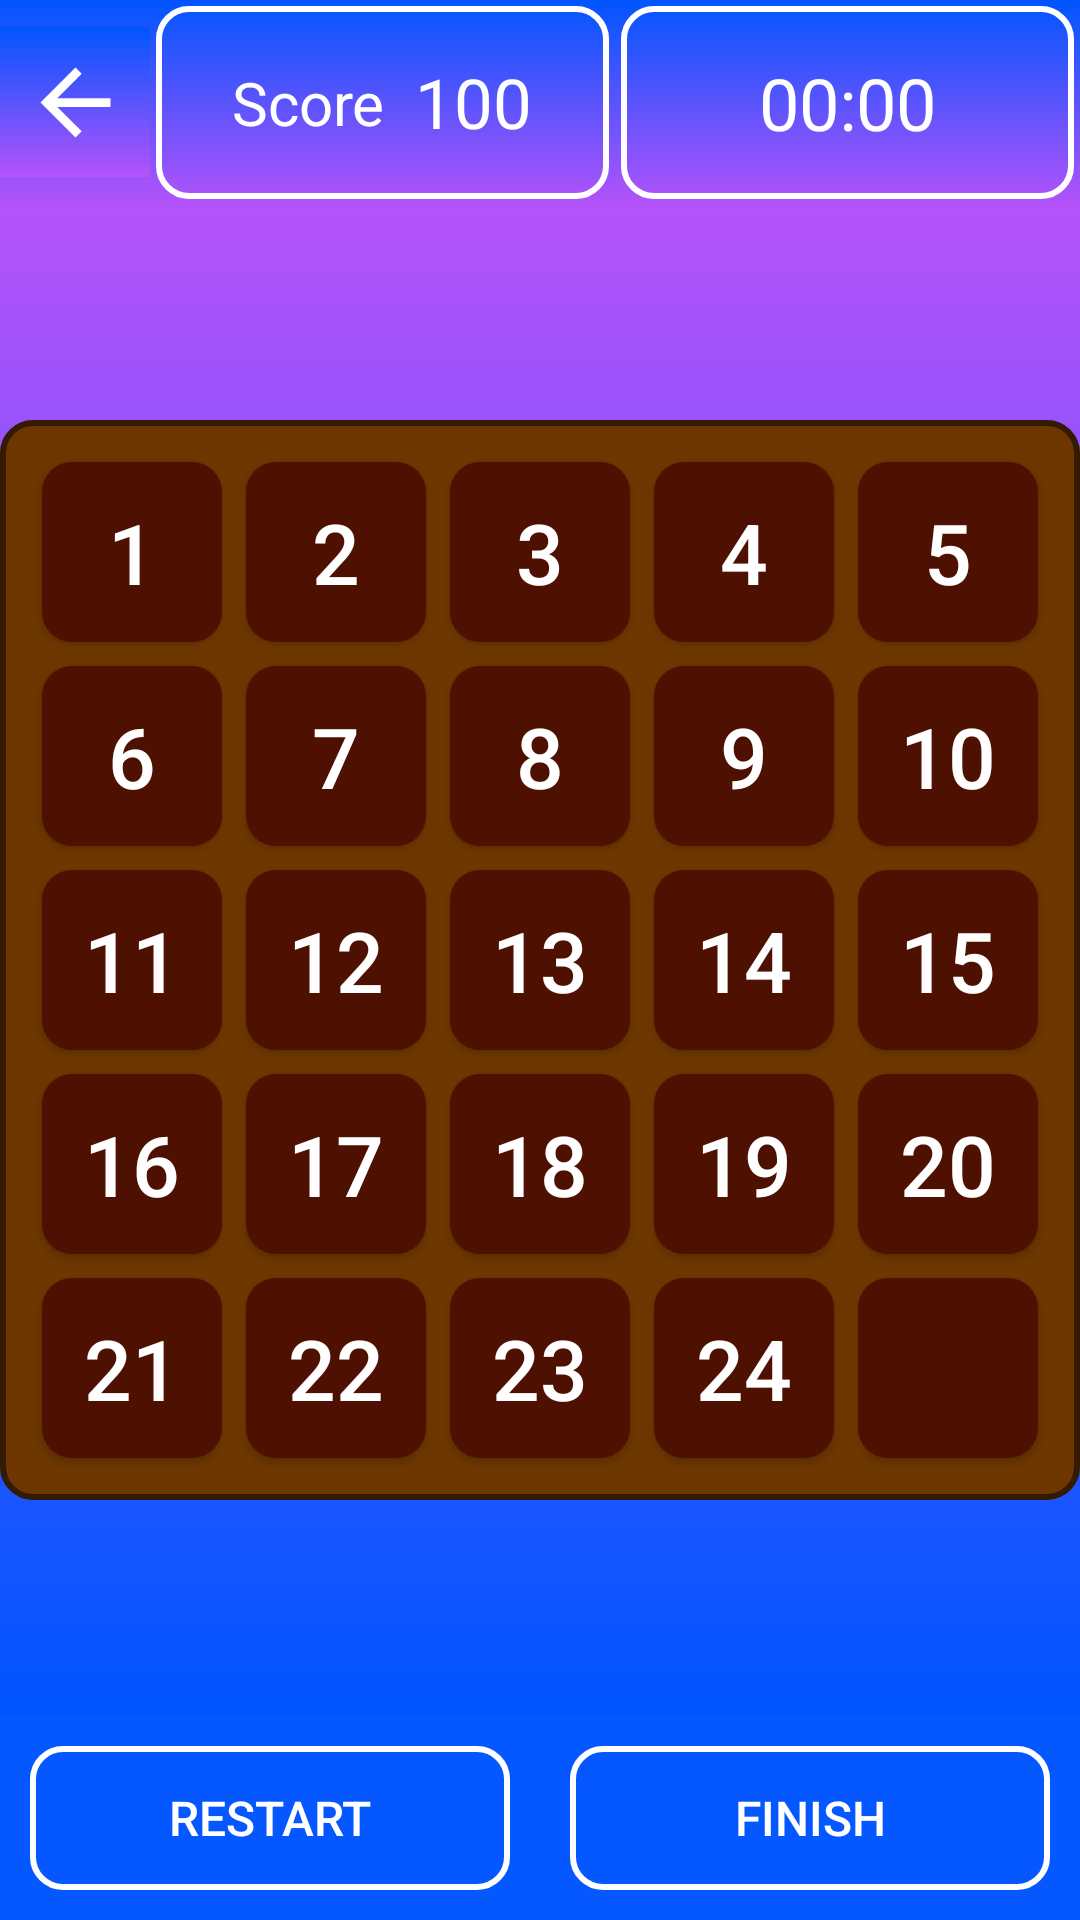

Where to tap for icons on this 1080 x 1920 app screen, as (x,y):
arrow back: (75,102)
